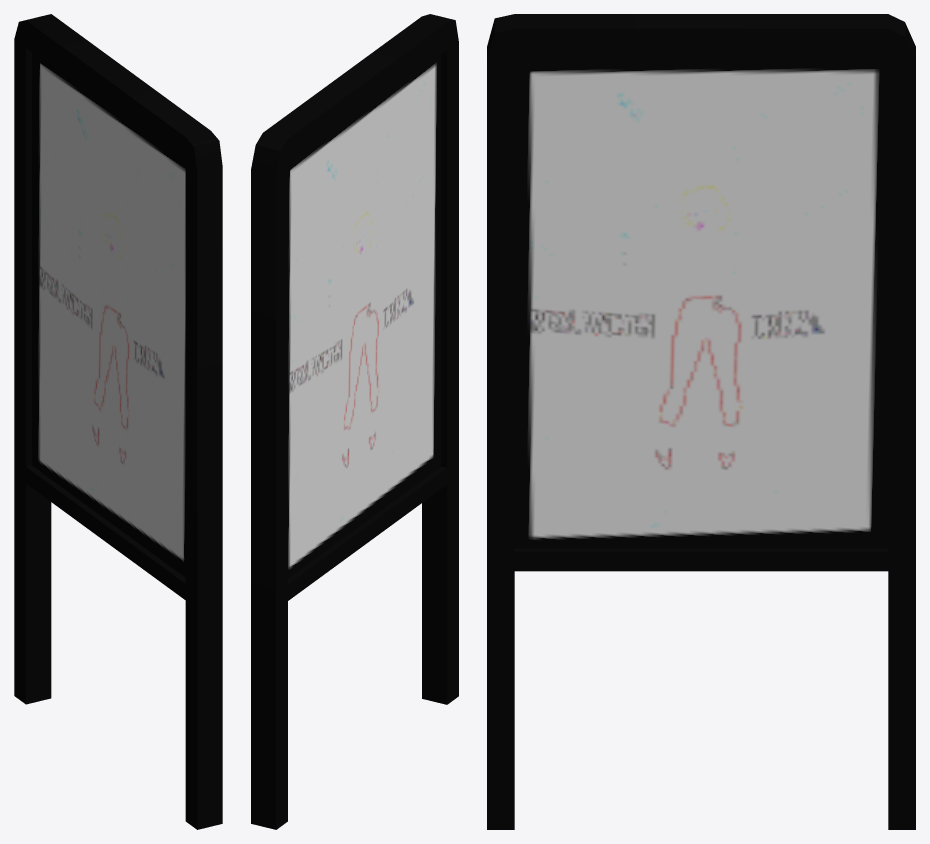
The model's file is billboard2.FBX.
3 renders of one model, left to right at view 1: azimuth 30°, elevation 25°; view 2: azimuth 150°, elevation 25°; view 3: azimuth 270°, elevation 25°, orthographic. The views are drawn at different scales.
Parts seen in each view (by area): view 1: Box001; view 2: Box001; view 3: Box001.
Part boxes in pixels (x1,y1,x2,y2): Box001: [14, 14, 222, 829]; Box001: [251, 14, 458, 829]; Box001: [487, 14, 915, 829].
Bounding box in the file's own units: 0.8235 × 21.19 × 10.28.
